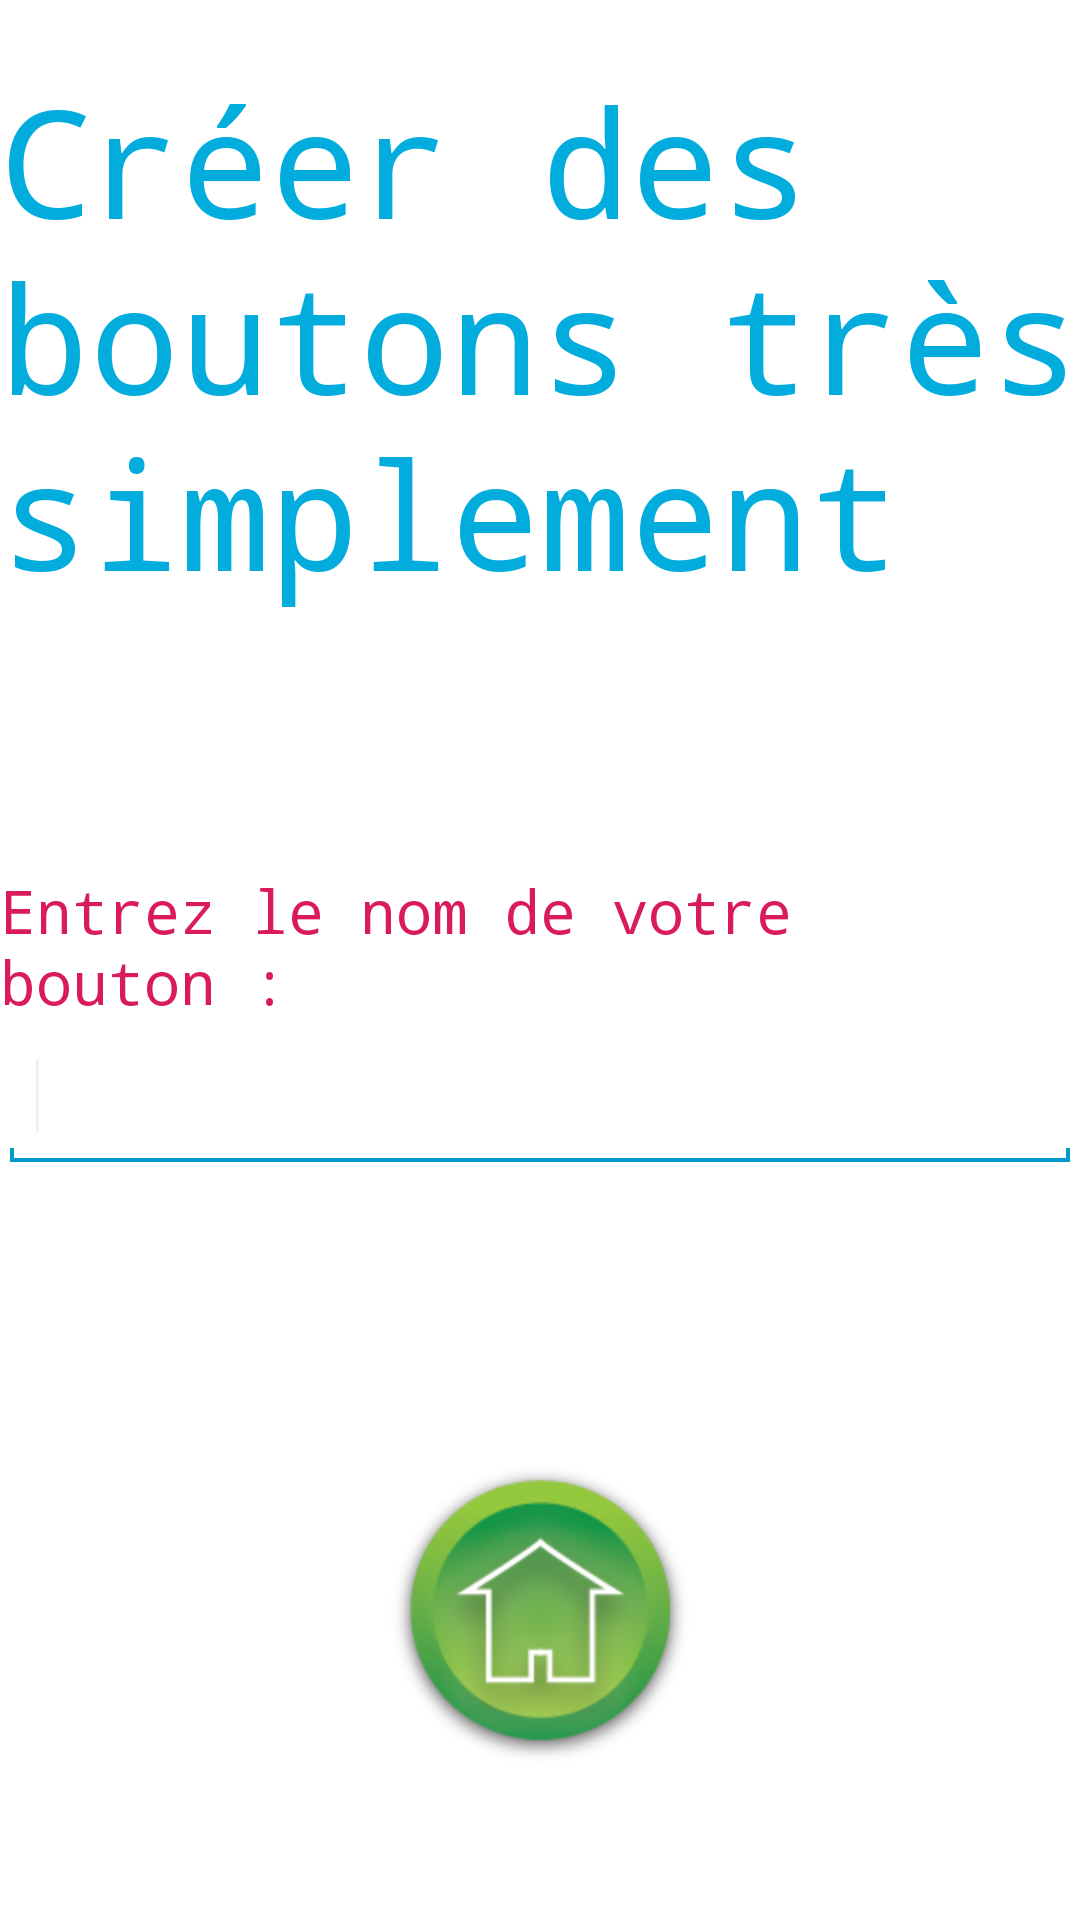

Icon click points for this 1080*1920 phone screenshot, format point (x, y):
home: point (540, 1614)
